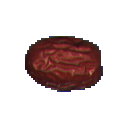gd: (16, 18, 109, 115)
